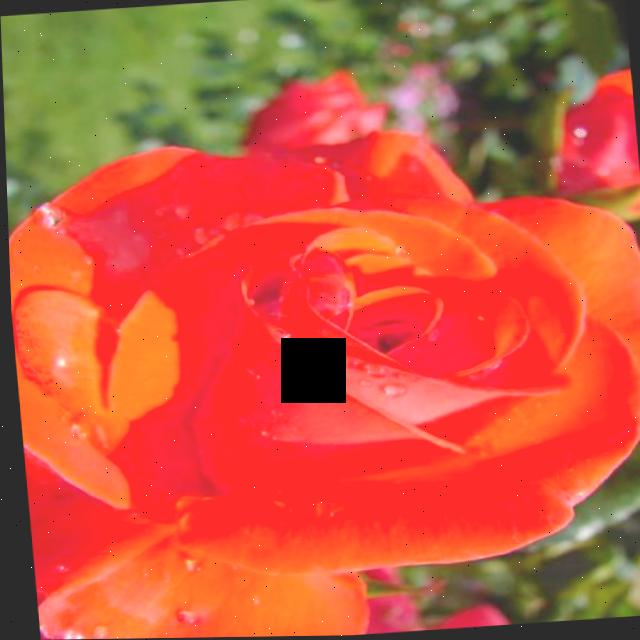rose: (3, 105, 640, 640)
